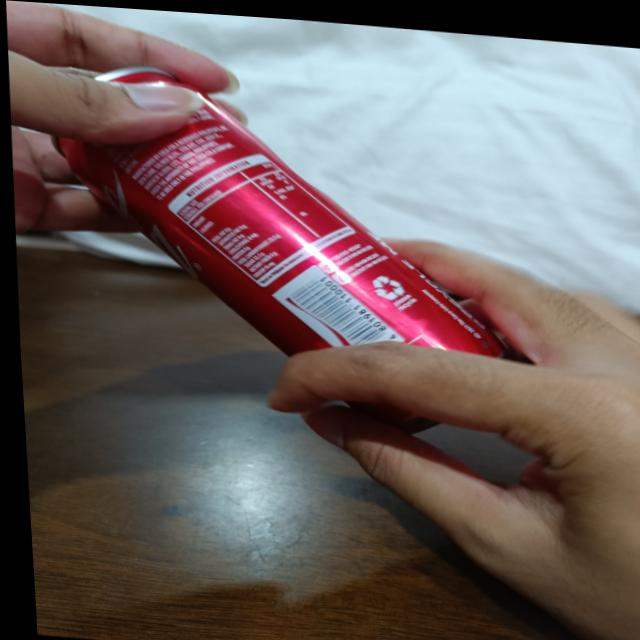coke: (41, 53, 519, 434)
